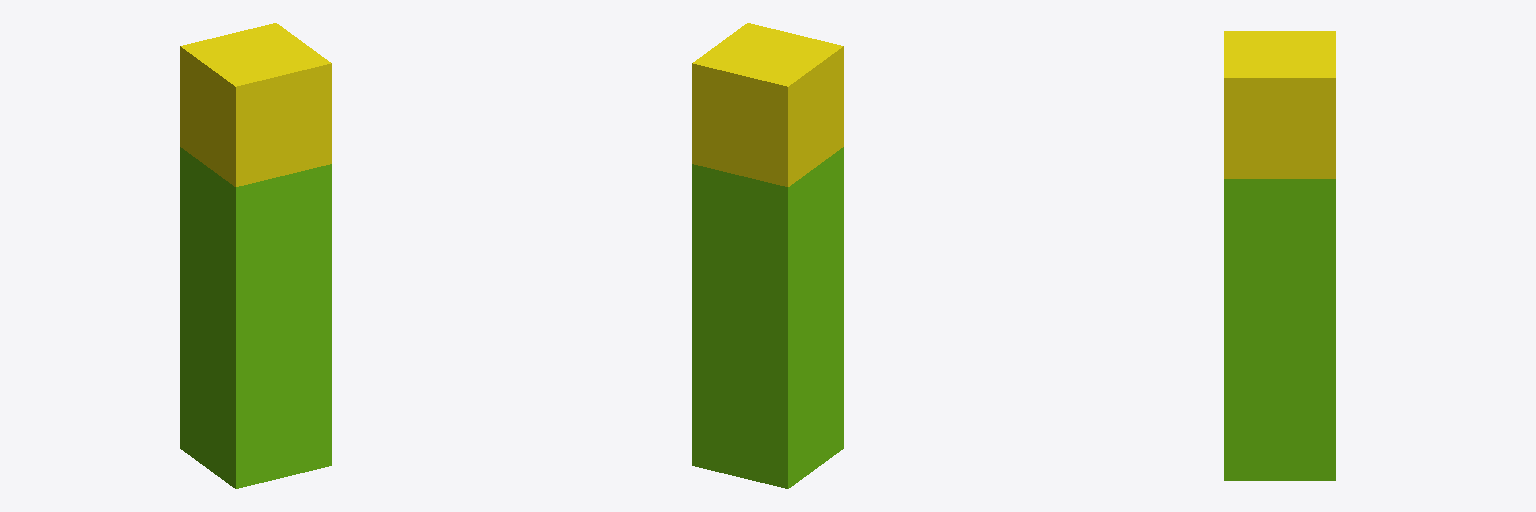
3 renders of one model, left to right at view 1: azimuth 30°, elevation 25°; view 2: azimuth 150°, elevation 25°; view 3: azimuth 270°, elevation 25°, orthographic.
Parts seen in each view (by area): view 1: object 1; view 2: object 1; view 3: object 1.
Part boxes in pixels (x1,y1,x2,y2): object 1: (180,23,331,488); object 1: (692,23,843,488); object 1: (1224,31,1335,480).
Size of the model in its own units: 0.2 by 0.8 by 0.2.
1 materials, 1 textured.